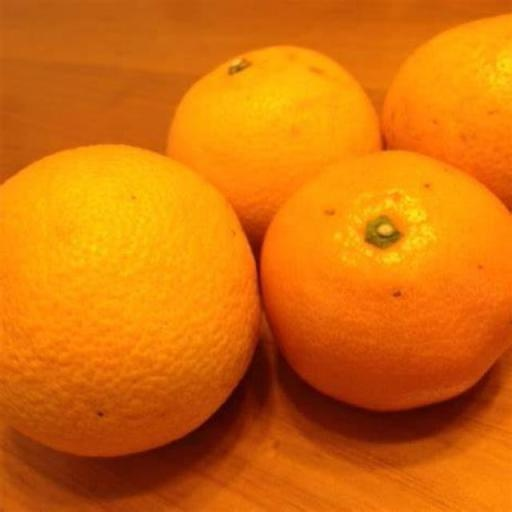fruit: (106, 162, 394, 512), (284, 76, 446, 230), (444, 91, 500, 254), (491, 149, 512, 512)
